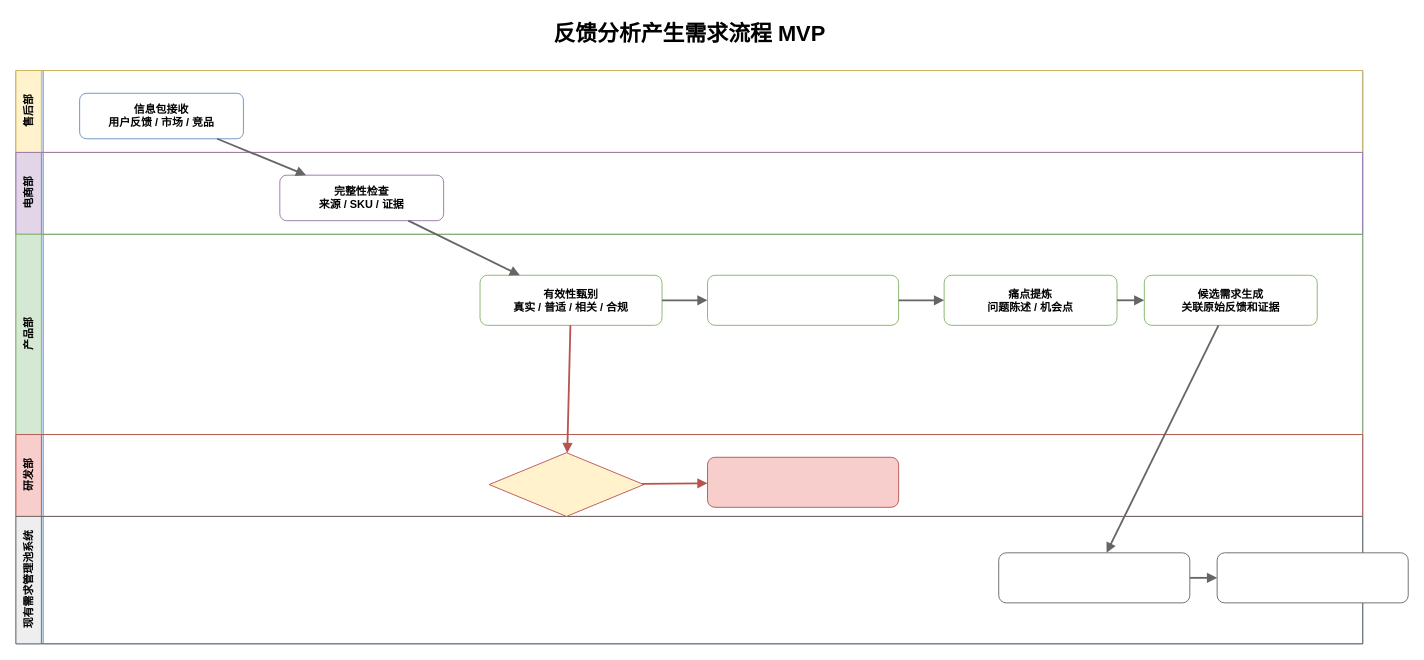
The diagram is 1424 pixels wide and 660 high, and some of its shapes have lost their labels. Here are the shapes that lost their labels. From the top down, the centre of each, then its label:
At [803,299]: "分类统计与趋势分析 频次 / 严重度 / 趋势".
At [566,484]: "产品异常判断 质量 / 功能 / 安全 / 合规".
At [803,481]: "进入产品异常处理流程".
At [1094,577]: "产品需求池导入清单".
At [1312,577]: "现有需求管理池系统承接 评分 / 分级 / 审批 / 流转".
